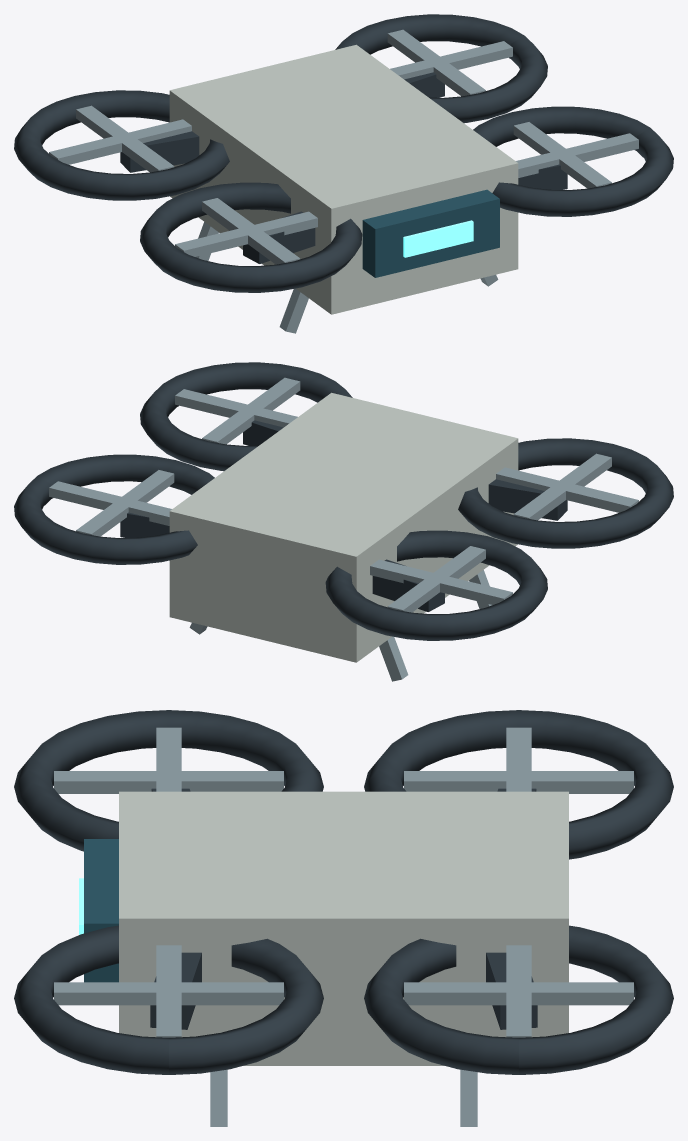
Rendered from service-drone.lod1.glb.
3 views of the same model, one above another, from view 1: azimuth 30°, elevation 25°; view 2: azimuth 150°, elevation 25°; view 3: azimuth 270°, elevation 25° (orthographic). The views are drawn at different scales.
Parts seen in each view (by area): view 1: structure, rotor_lf, rotor_lb, rotor_rf, rotor_rb; view 2: structure, rotor_lb, rotor_lf, rotor_rb, rotor_rf; view 3: structure, rotor_rb, rotor_rf, rotor_lb, rotor_lf.
Boxes of the visible parts, x1,y1,x2,y2 form: structure: (14, 14, 673, 333); rotor_lf: (175, 198, 317, 264); rotor_lb: (49, 105, 191, 172); rotor_rf: (513, 122, 638, 188); rotor_rb: (387, 29, 512, 96); structure: (14, 362, 673, 681); rotor_lb: (370, 546, 512, 612); rotor_lf: (496, 453, 638, 520); rotor_rb: (49, 470, 174, 536); rotor_rf: (175, 377, 300, 444); structure: (14, 710, 673, 1126); rotor_rb: (404, 945, 633, 1037); rotor_rf: (54, 945, 283, 1037); rotor_lb: (404, 727, 633, 793); rotor_lf: (54, 727, 283, 793).
Size of the model in its own units: 3.24 by 0.9088 by 2.64.
